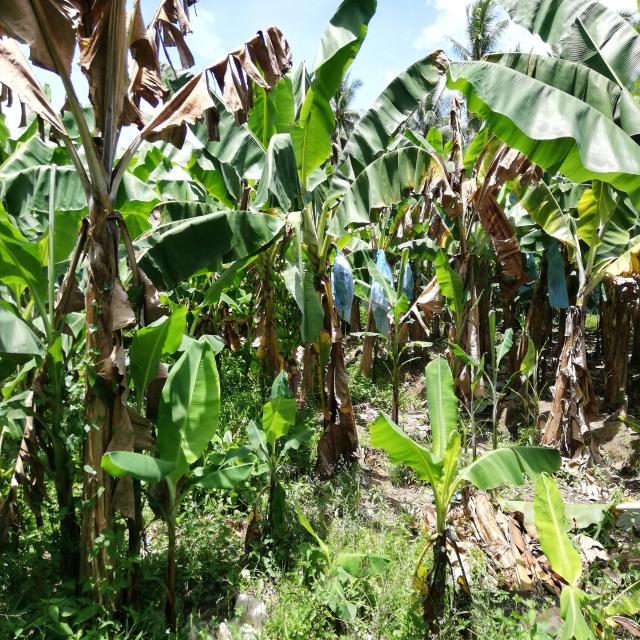Banana-plant: (64, 104, 140, 610), (296, 190, 372, 472), (526, 253, 616, 476)
